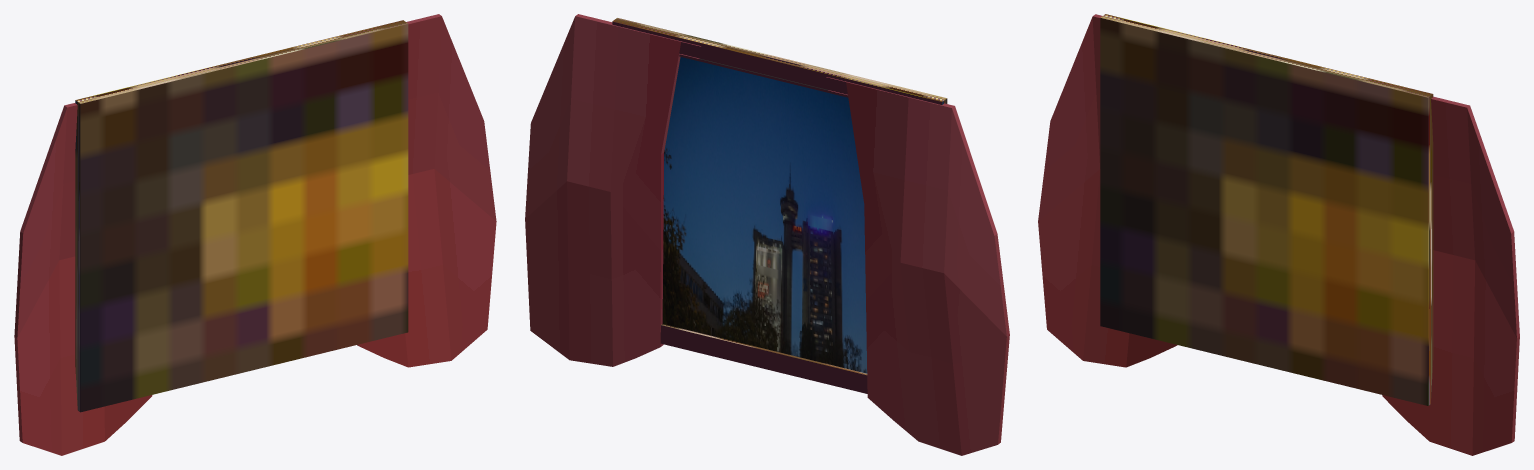
File: genex prozor.glb
3 views of the same model, side by side, from view 1: azimuth 30°, elevation 25°; view 2: azimuth 150°, elevation 25°; view 3: azimuth 330°, elevation 25° (orthographic).
Visible parts, largest first — view 1: Cube.004; view 2: Cube.004; view 3: Cube.004.
Boxes of the visible parts, x1,y1,x2,y2 form: Cube.004: (14, 14, 496, 455); Cube.004: (525, 14, 1009, 455); Cube.004: (1038, 14, 1519, 455).
Bounding box in the file's own units: 7.4 × 5.15 × 0.3669.
5 materials, 3 textured.
